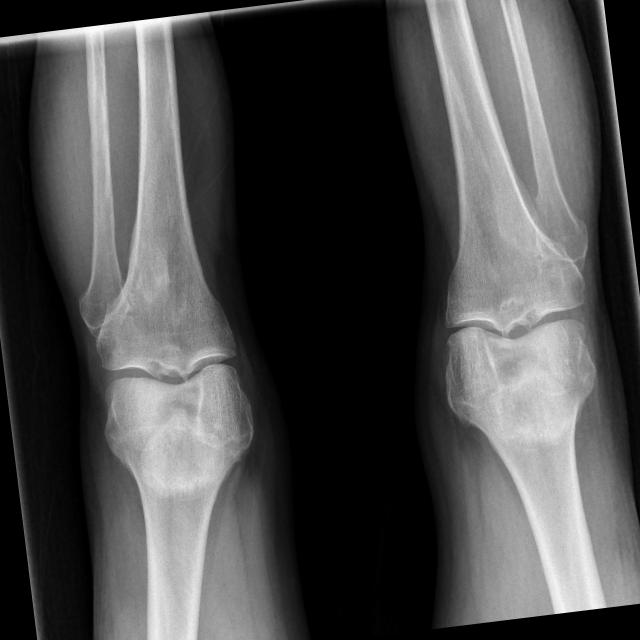Knee: (429, 253, 604, 428), (90, 296, 262, 471)
